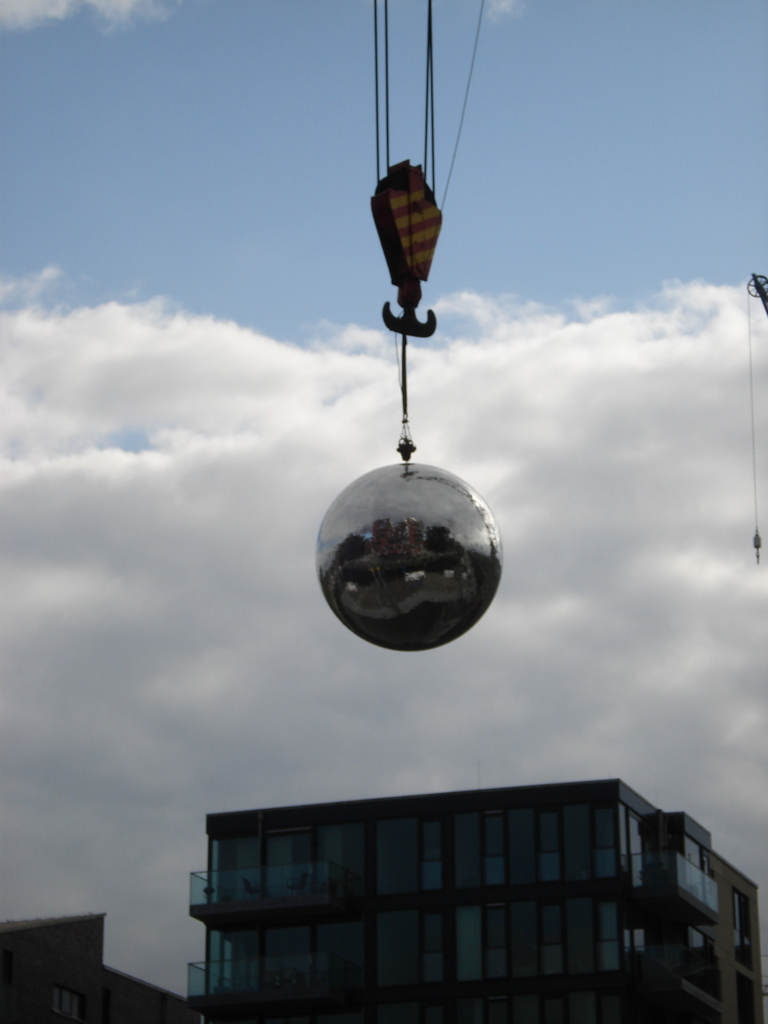Ball: (316, 461, 501, 650)
